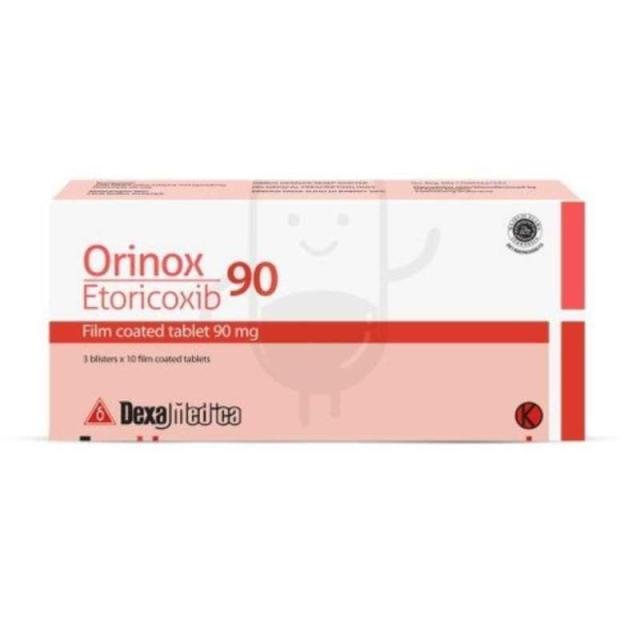drug-name: (81, 240, 216, 279)
